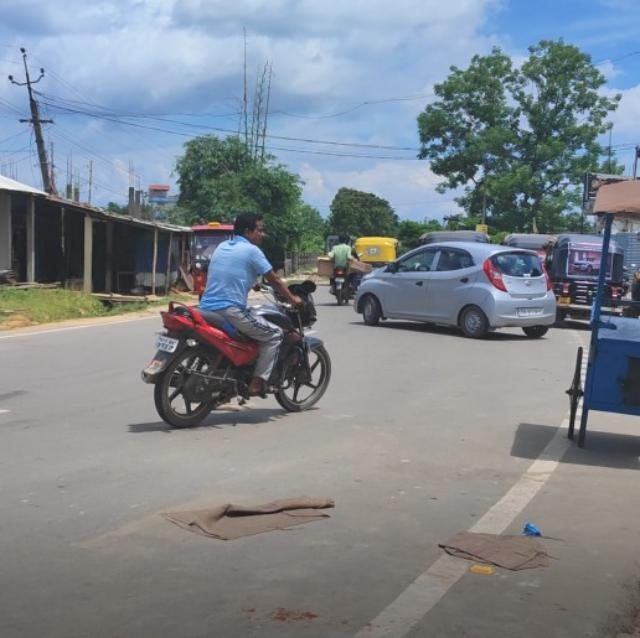licensePlate: (151, 335, 180, 352)
motorcycle: (140, 211, 338, 424)
withoutHelmet: (232, 212, 267, 245)
